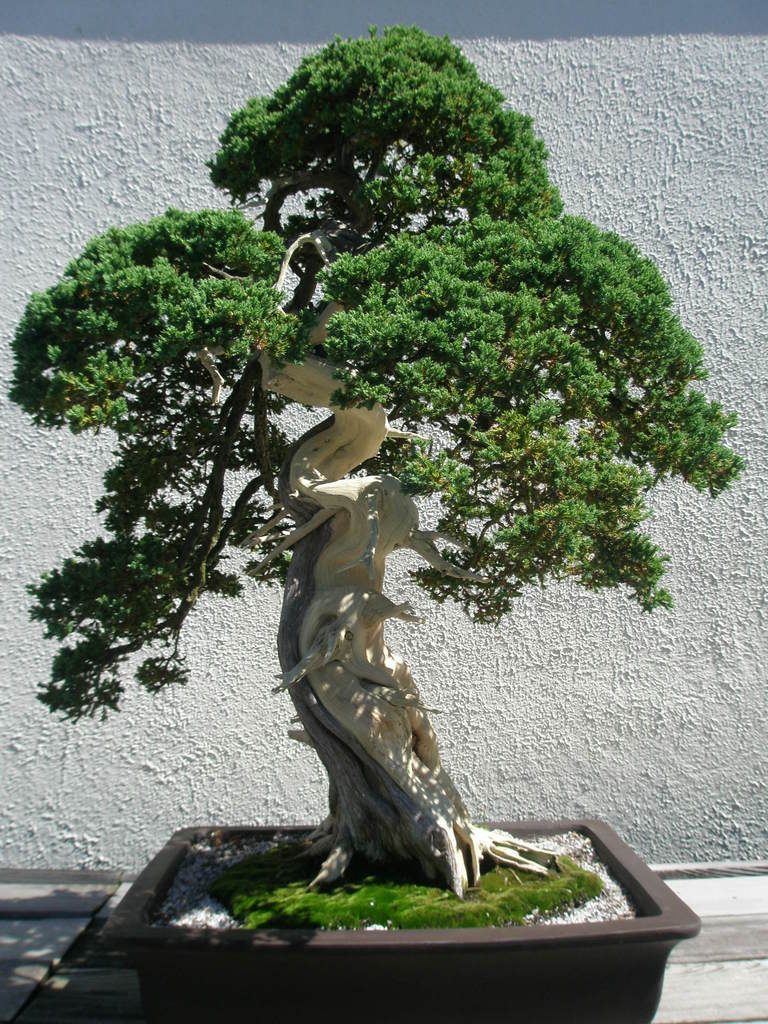Tree: (6, 22, 747, 905)
